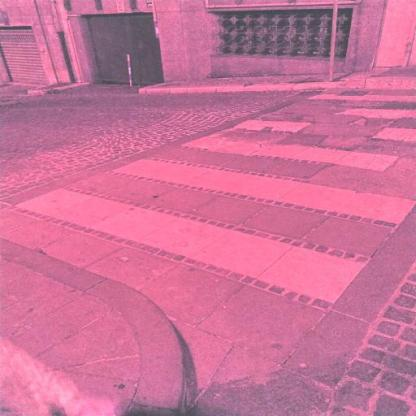crosswalk: (11, 154, 415, 314)
